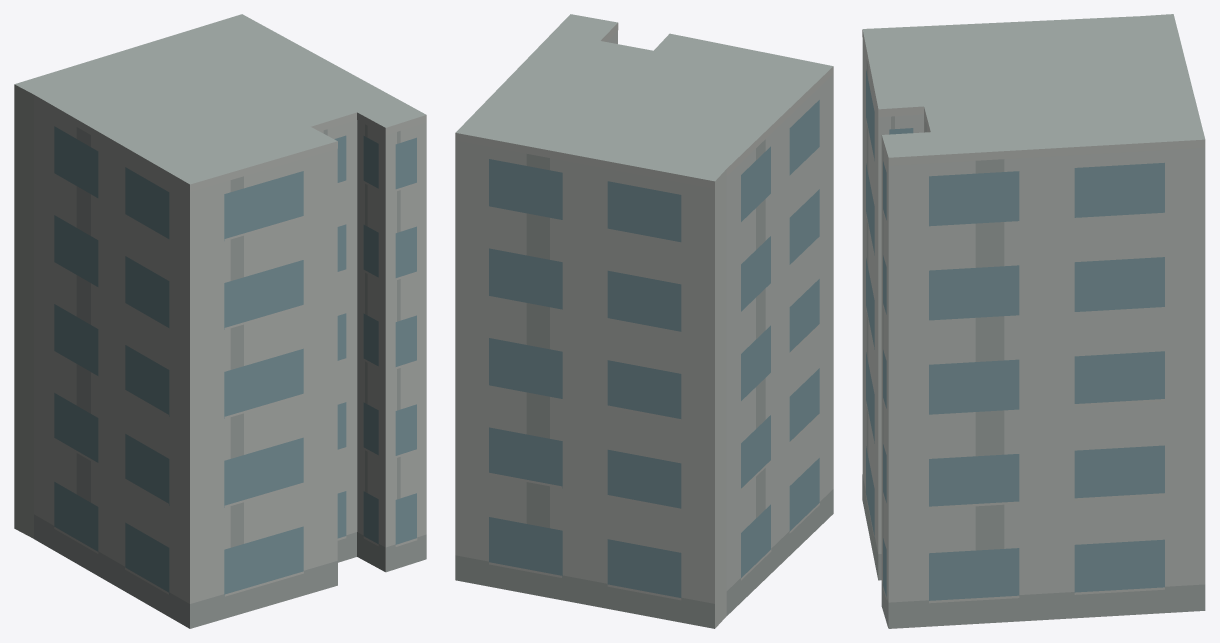
Rendered from survey-upis-32644855.glb.
3 views of the same model, side by side, from view 1: azimuth 30°, elevation 25°; view 2: azimuth 150°, elevation 25°; view 3: azimuth 270°, elevation 25° (orthographic). The views are drawn at different scales.
Parts seen in each view (by area): view 1: survey-upis-32644855.tmp; view 2: survey-upis-32644855.tmp; view 3: survey-upis-32644855.tmp.
Part boxes in pixels (x1,y1,x2,y2): survey-upis-32644855.tmp: (14, 14, 426, 628); survey-upis-32644855.tmp: (455, 14, 833, 628); survey-upis-32644855.tmp: (862, 14, 1205, 628).
Bounding box in the file's own units: 9.36 × 14.3 × 9.44.
